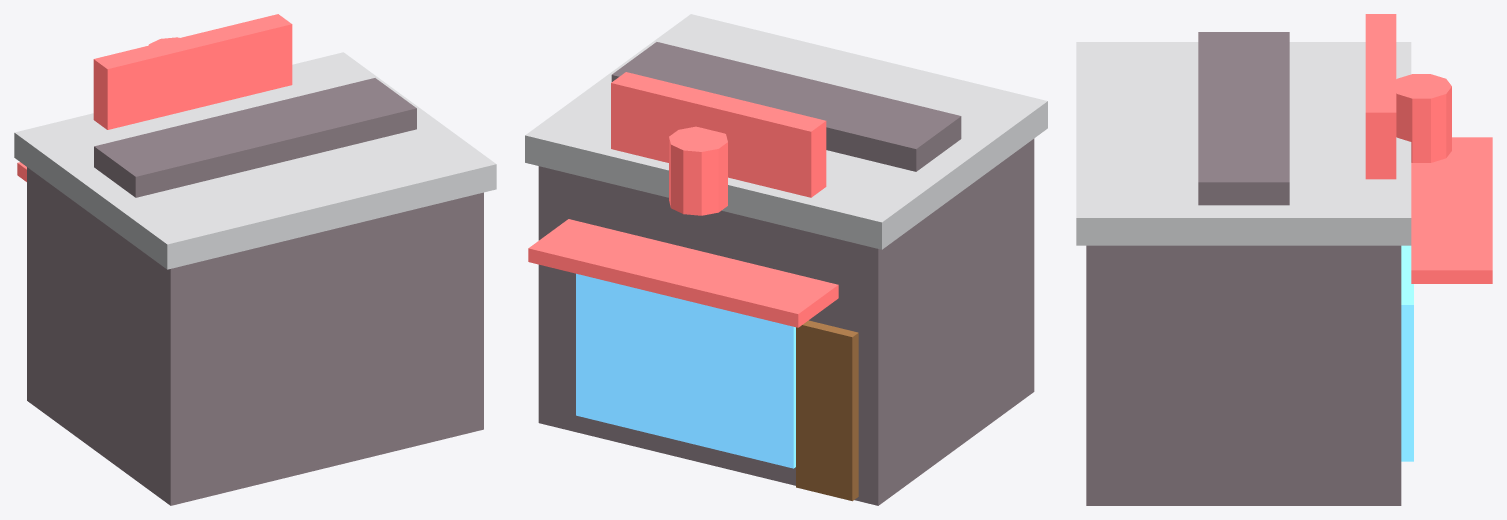
The model's file is sushi.glb.
The picture shows the model from 3 angles, left to right: view 1: azimuth 30°, elevation 25°; view 2: azimuth 150°, elevation 25°; view 3: azimuth 270°, elevation 25°; orthographic projection. The views are drawn at different scales.
Visible parts, largest first — view 1: sushi; view 2: sushi; view 3: sushi.
Part boxes in pixels (box(x1,y1,x2,y2)): sushi: box(14, 14, 496, 505); sushi: box(525, 14, 1047, 505); sushi: box(1076, 14, 1492, 505).
Bounding box in the file's own units: 0.82 × 0.78 × 0.82.
